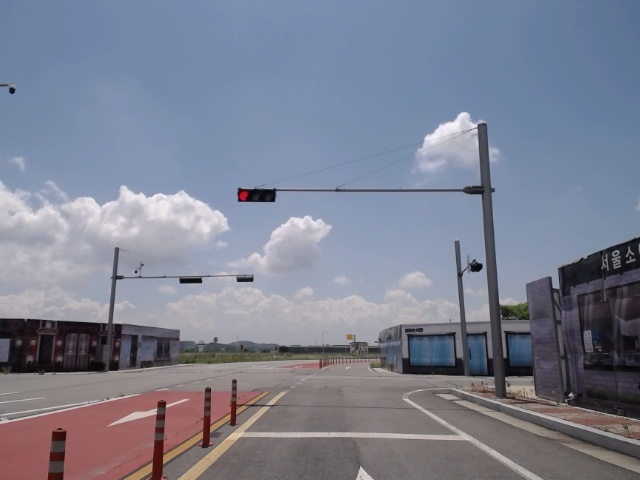red_3: (235, 188, 278, 202)
